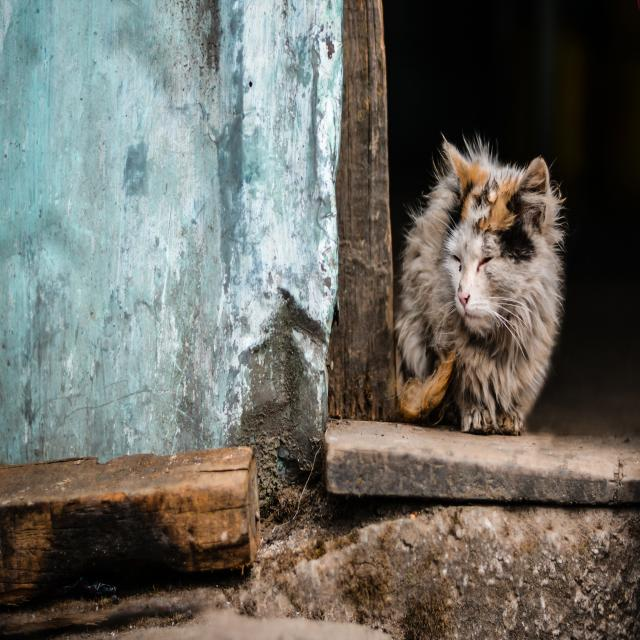cat: (395, 138, 565, 435)
